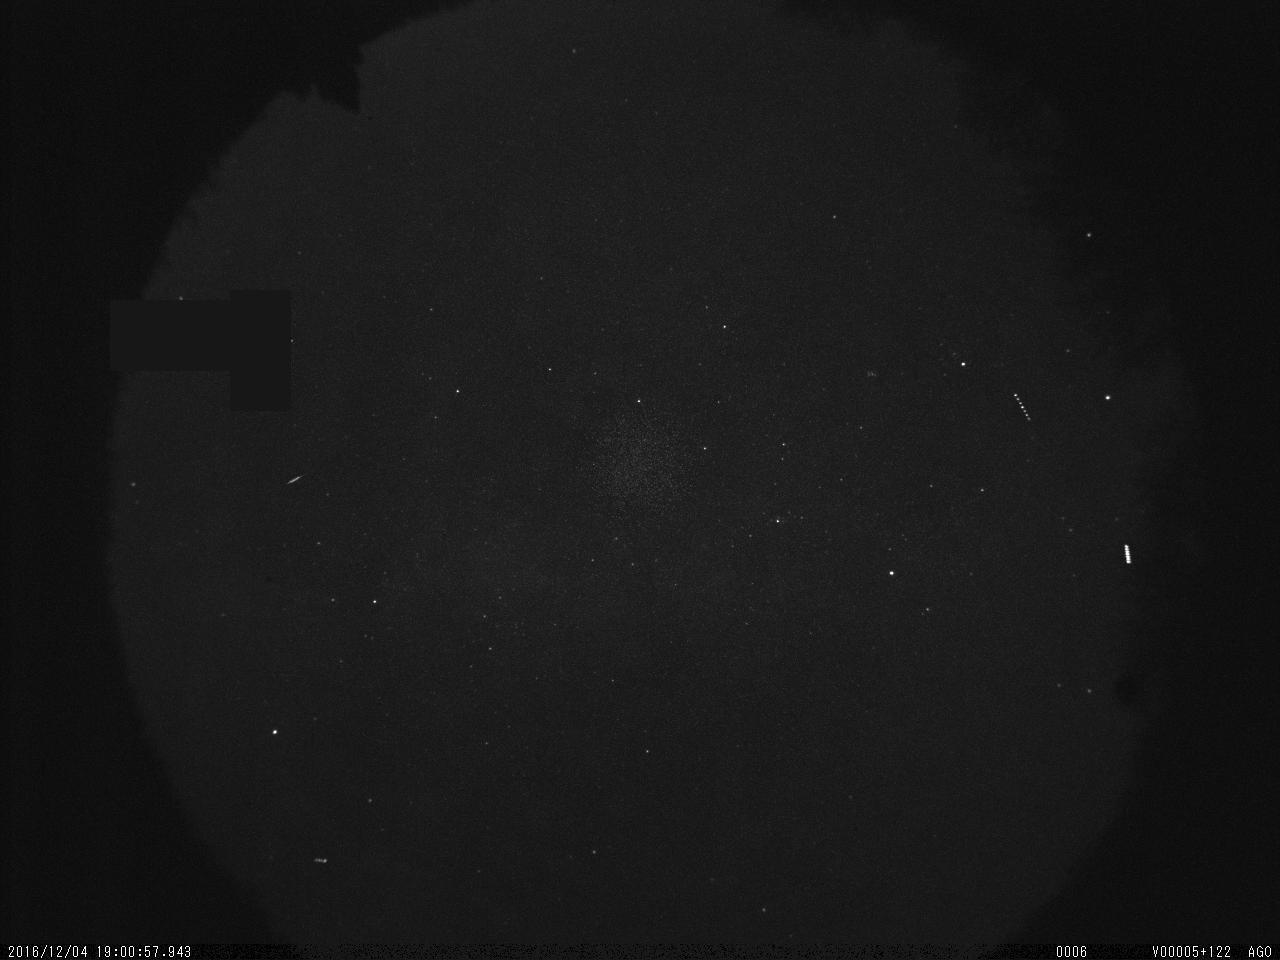meteor: (276, 459, 322, 492)
satelite: (1009, 383, 1040, 433), (1120, 538, 1139, 574)
